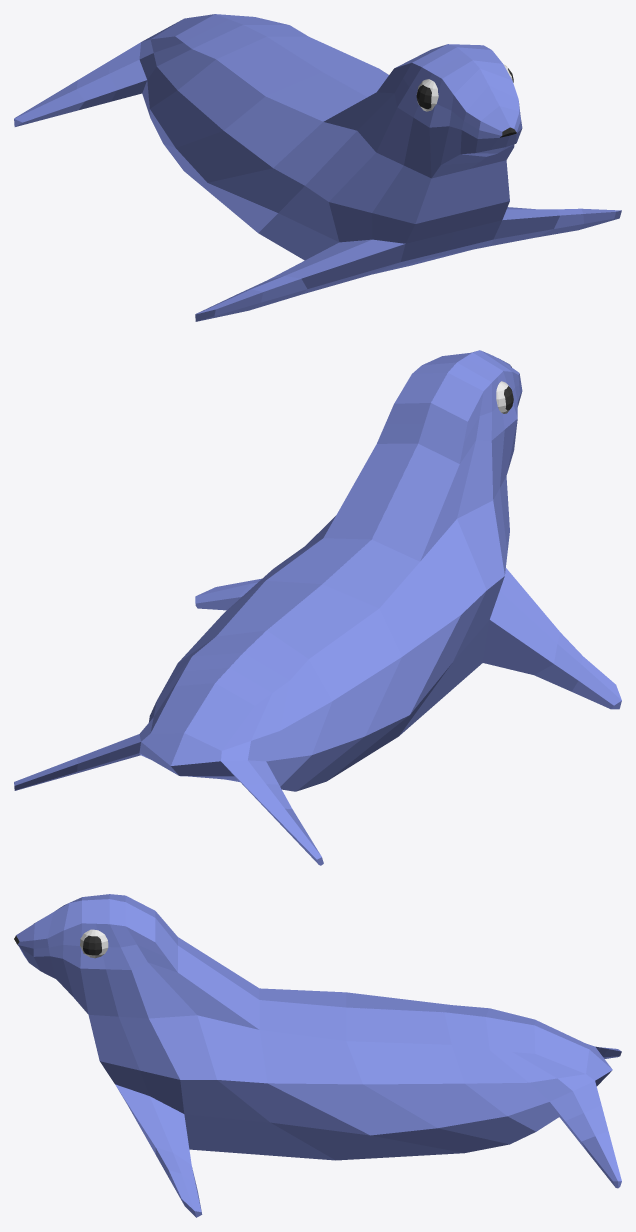
The model's file is sealwitheyes.fbx.
The picture shows the model from 3 angles, top to bottom: view 1: azimuth 30°, elevation 25°; view 2: azimuth 150°, elevation 25°; view 3: azimuth 270°, elevation 25°; orthographic projection. The views are drawn at different scales.
Parts seen in each view (by area): view 1: Cube, Sphere; view 2: Cube; view 3: Cube, Sphere.
Boxes of the visible parts, <box> form: Cube: <box>14,14,621,321</box>; Sphere: <box>416,64,513,111</box>; Cube: <box>14,350,621,865</box>; Cube: <box>14,894,621,1217</box>; Sphere: <box>80,929,108,958</box>.
Size of the model in its own units: 398 by 234 by 559.
